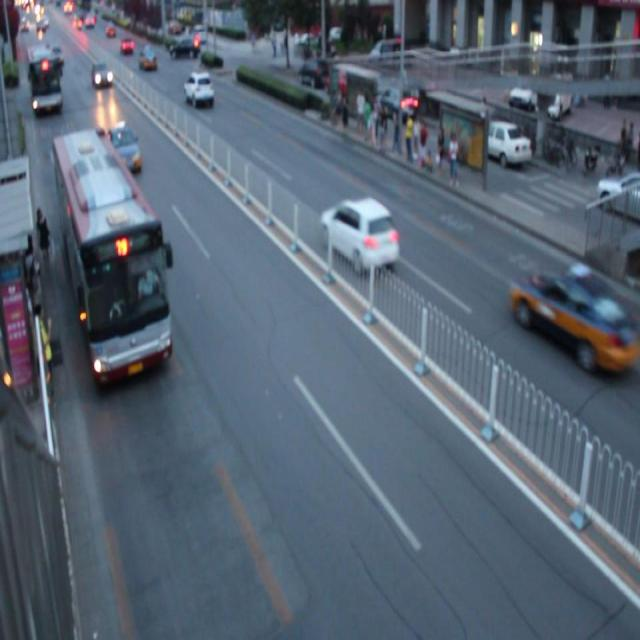car: (509, 263, 624, 375), (320, 196, 398, 275), (106, 124, 143, 175), (183, 69, 216, 111)
van: (52, 132, 170, 380)
